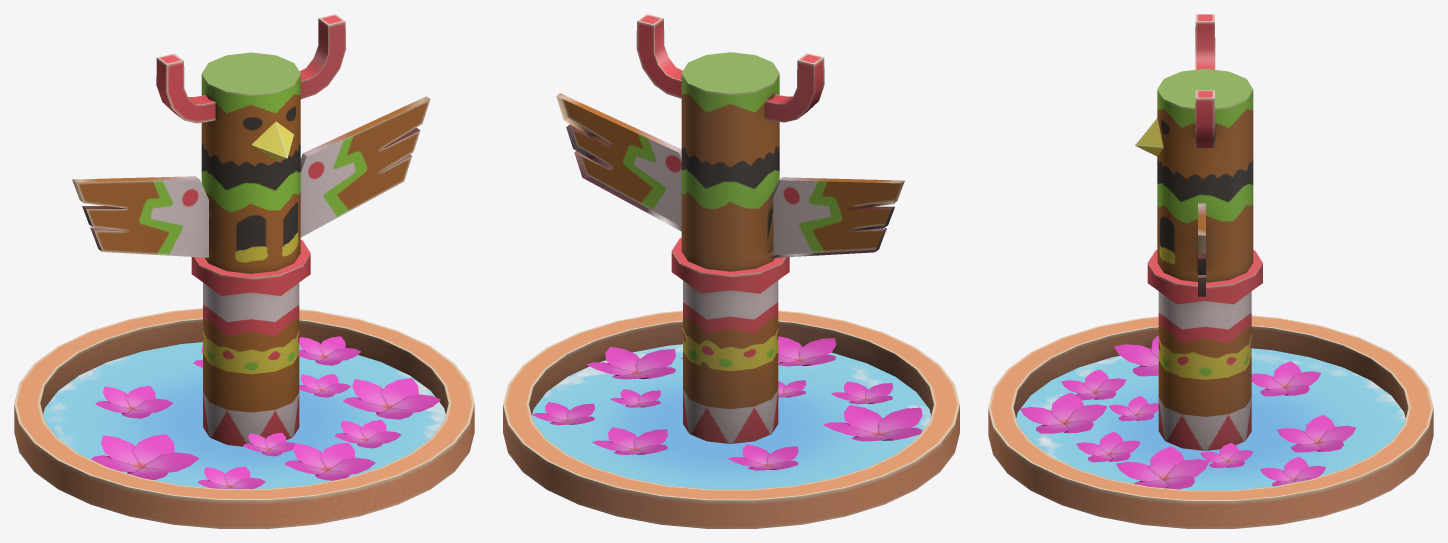
Rendered from totem_7.fbx.
3 views of the same model, side by side, from view 1: azimuth 30°, elevation 25°; view 2: azimuth 150°, elevation 25°; view 3: azimuth 270°, elevation 25° (orthographic). The views are drawn at different scales.
Parts seen in each view (by area): view 1: Cylinder.065, Cylinder.120, Circle.028, Plane.011, Plane, Circle.026, Circle.027, Circle.025, Plane.014, Plane.019, Cube.020, Cube.021 (+7 smaller); view 2: Cylinder.065, Cylinder.120, Circle.028, Circle.026, Plane.011, Plane, Circle.025, Circle.027, Plane.014, Cube.020, Cube.021, Plane.019 (+6 smaller); view 3: Cylinder.065, Cylinder.120, Circle.028, Circle.026, Circle.025, Circle.027, Plane.019, Plane.017, Plane.020, Plane.015, Cube.020, Plane.018 (+7 smaller).
Boxes of the visible parts, x1,y1,x2,y2 form: Cylinder.065: [14, 308, 474, 528]; Cylinder.120: [43, 342, 445, 488]; Circle.028: [201, 52, 300, 193]; Plane.011: [72, 176, 208, 257]; Plane: [300, 96, 430, 237]; Circle.026: [191, 239, 310, 362]; Circle.027: [201, 173, 300, 273]; Circle.025: [203, 343, 299, 446]; Plane.014: [91, 434, 198, 479]; Plane.019: [343, 378, 440, 419]; Cube.020: [299, 14, 346, 99]; Cube.021: [156, 53, 215, 123]; Cylinder.065: [503, 310, 959, 528]; Cylinder.120: [532, 344, 930, 489]; Circle.028: [681, 52, 779, 191]; Circle.026: [671, 237, 789, 359]; Plane.011: [768, 177, 904, 258]; Plane: [556, 93, 681, 231]; Circle.025: [683, 340, 778, 443]; Circle.027: [681, 172, 779, 271]; Plane.014: [823, 405, 922, 441]; Cube.020: [636, 14, 682, 98]; Cube.021: [766, 53, 824, 122]; Plane.019: [586, 347, 675, 379]; Cylinder.065: [988, 315, 1433, 528]; Cylinder.120: [1016, 348, 1405, 490]; Circle.028: [1135, 68, 1253, 205]; Circle.026: [1147, 250, 1262, 368]; Circle.025: [1158, 350, 1251, 450]; Circle.027: [1157, 186, 1253, 282]; Plane.019: [1116, 446, 1209, 489]; Plane.017: [1020, 392, 1106, 433]; Plane.020: [1277, 415, 1355, 452]; Plane.015: [1251, 361, 1320, 396]; Cube.020: [1195, 90, 1215, 147]; Plane.018: [1061, 369, 1126, 400].
Bounding box in the file's own units: 7.01 × 6.65 × 7.05.
